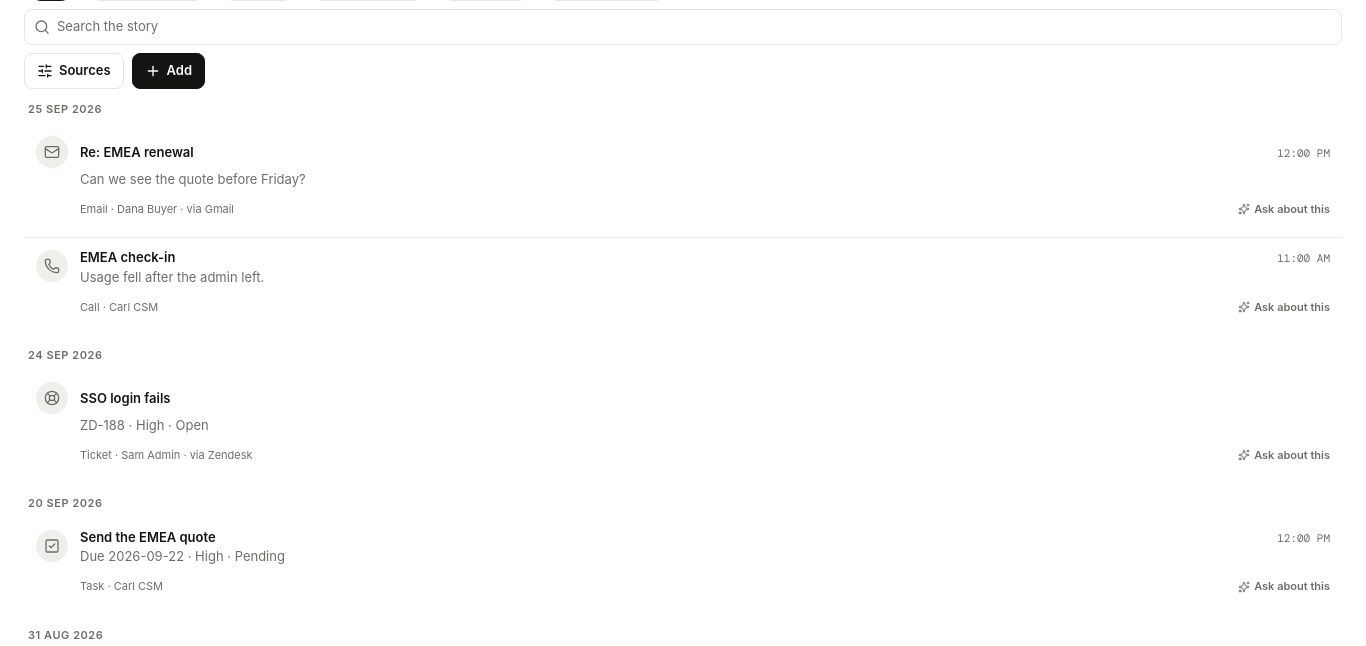
Test: Ask Revenact on an account page › opens the sheet with the question on a phone
This screenshot has width=1366, height=646.
(page scrolled)
What coordinates should you click on to do the following:
click the button with aria-label "Ask about this: EMEA check-in"
I would click on:
 (1284, 307)
Its box is [1238,289,1330,325].
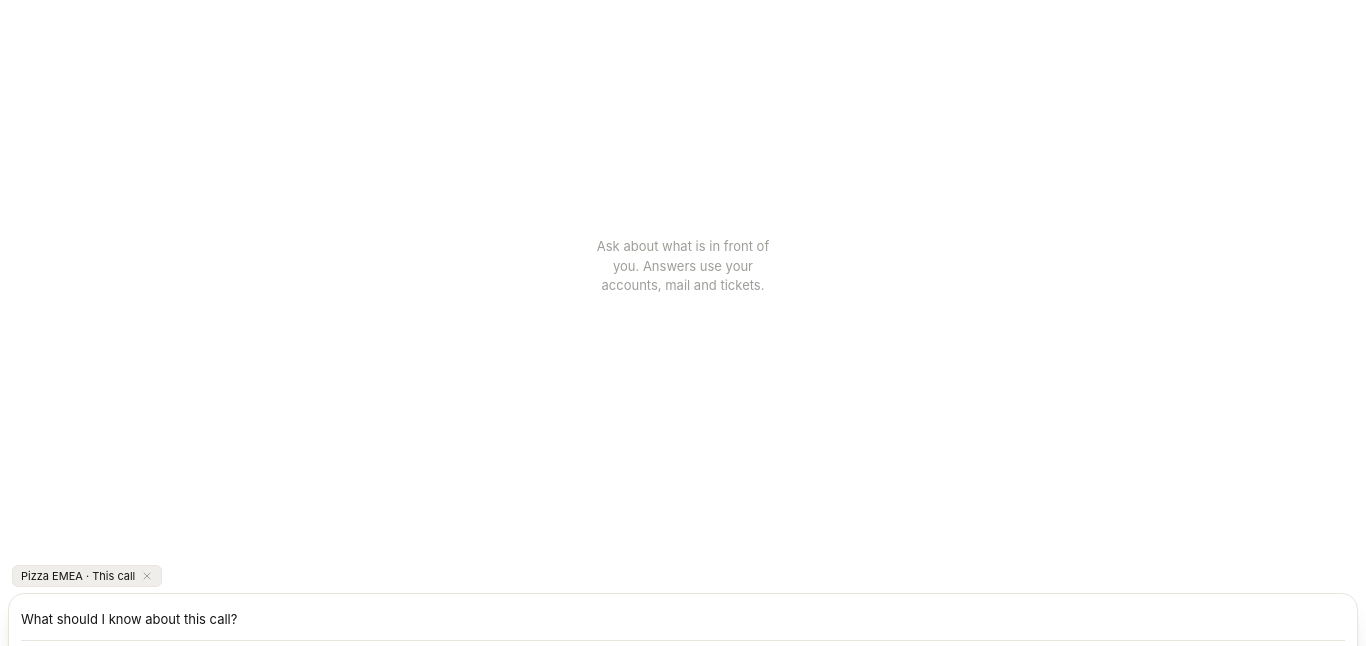
Check: the text "Pizza EMEA · This call" is shown, box [12,564,162,587]
Check: the field with placeholder "Ask Revenact" holds "What should I know about this call?", box [21,608,1345,632]
